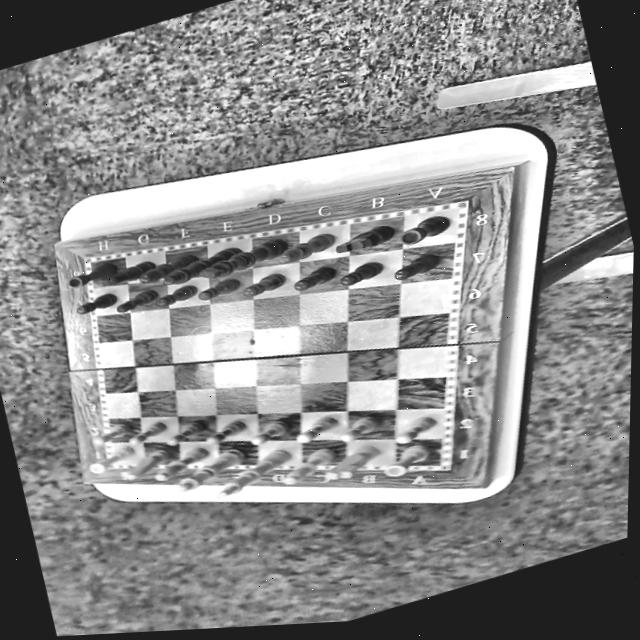chessboard: (92, 208, 457, 466)
